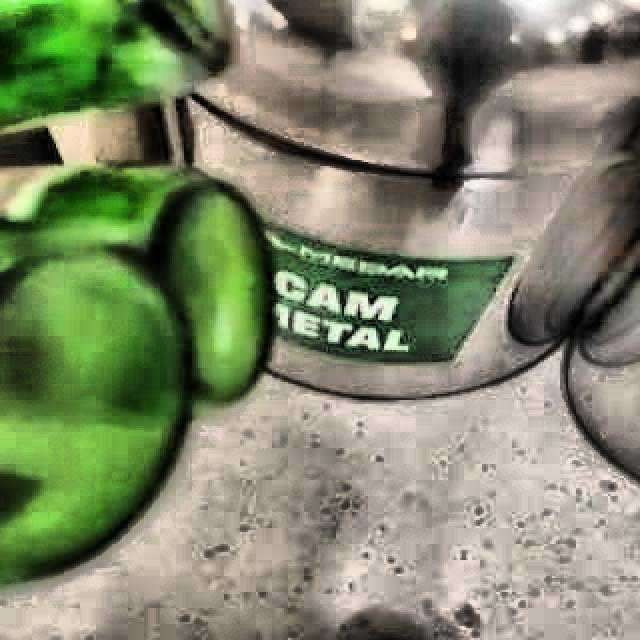glass: (0, 167, 272, 588)
